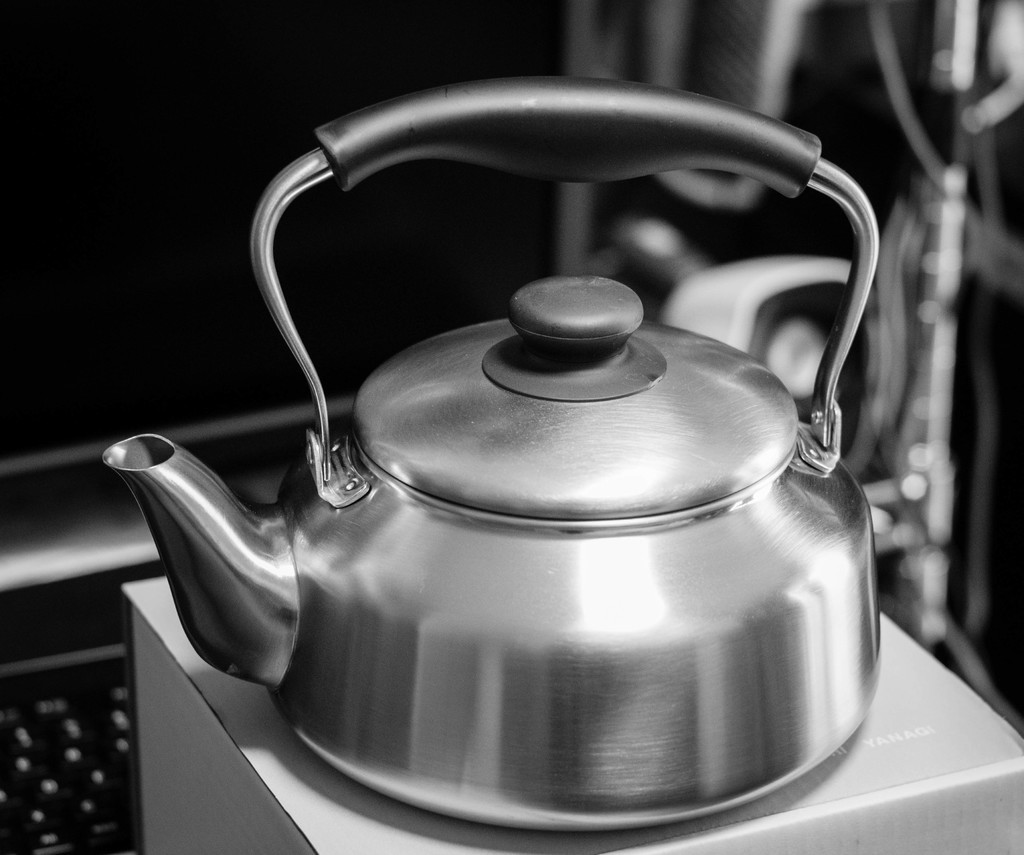teapot: (99, 75, 884, 833)
